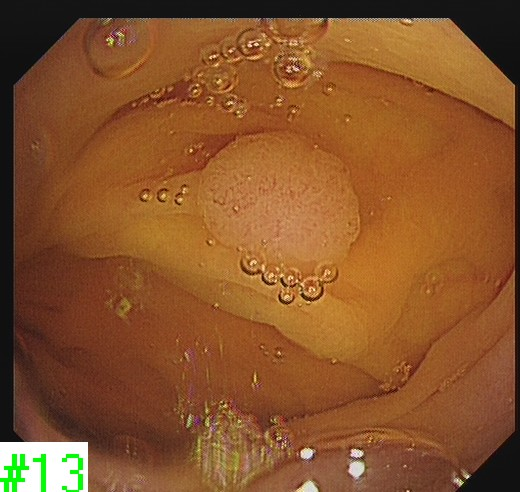adenoma: (198, 129, 364, 270)
